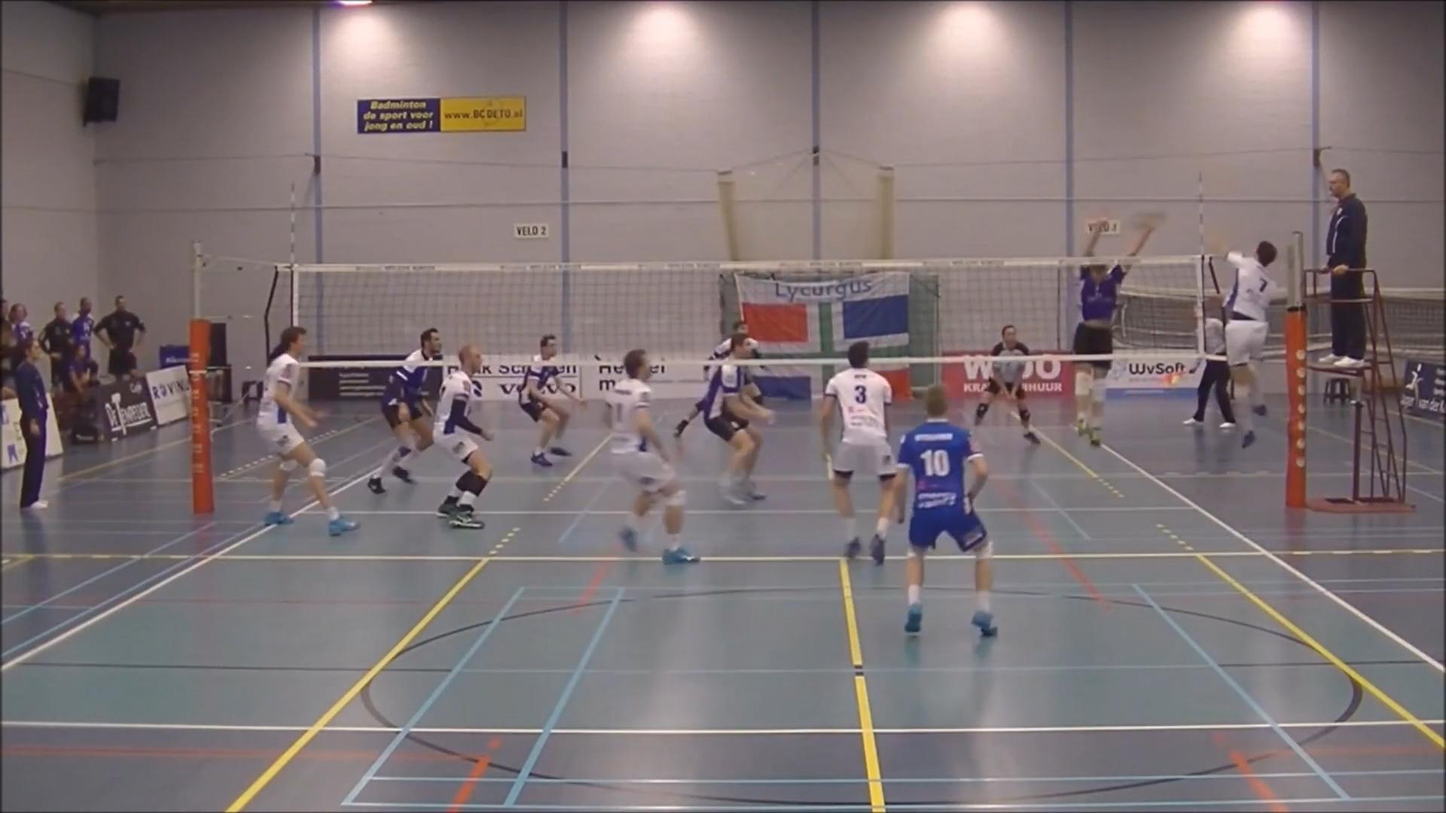attacco: (1188, 213, 1308, 441)
muro: (1033, 210, 1164, 444)
